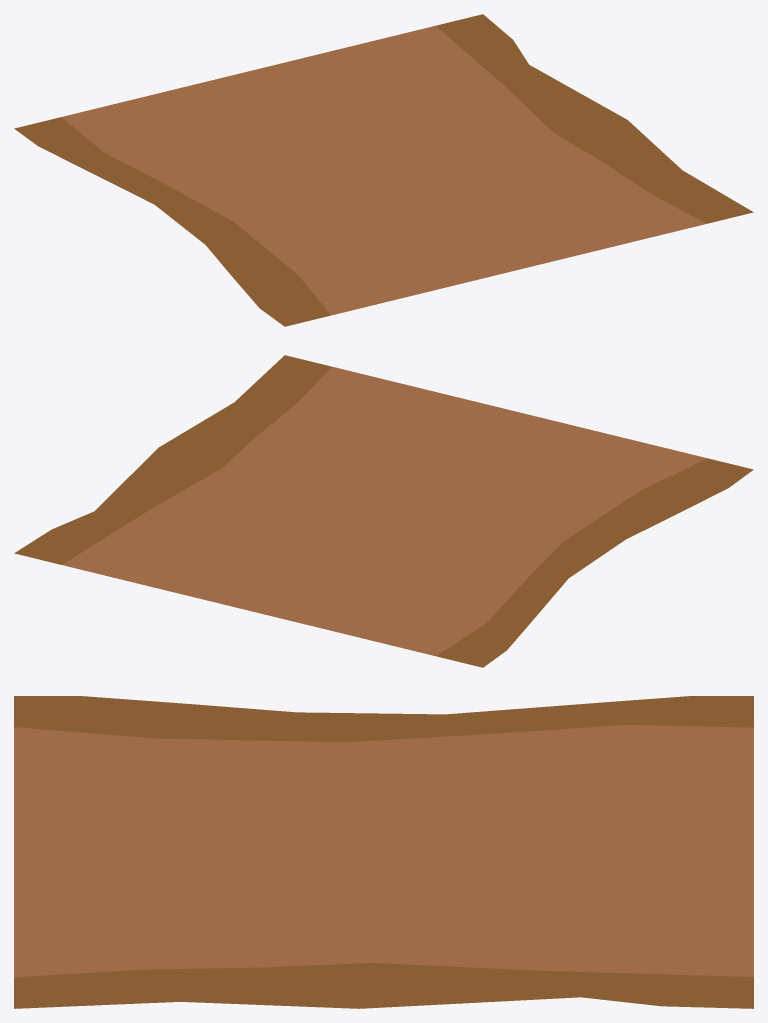
Rendered from dirt_road_2.fbx.
3 views of the same model, one above another, from view 1: azimuth 30°, elevation 25°; view 2: azimuth 150°, elevation 25°; view 3: azimuth 270°, elevation 25° (orthographic). The views are drawn at different scales.
Parts seen in each view (by area): view 1: dirt_road_2; view 2: dirt_road_2; view 3: dirt_road_2.
Boxes of the visible parts, bbox=[...] form: dirt_road_2: bbox=[14, 14, 753, 326]; dirt_road_2: bbox=[14, 355, 753, 667]; dirt_road_2: bbox=[14, 696, 753, 1008].
Bounding box in the file's own units: 100 × 1.63e-05 × 100.
